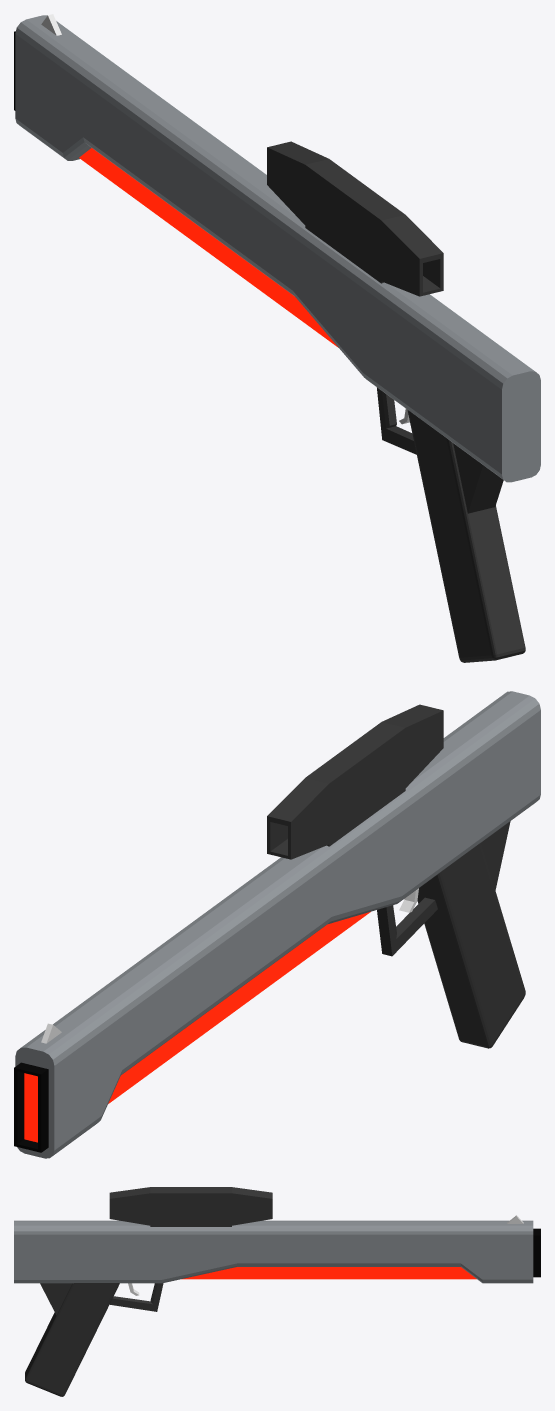
File: PlasmaGunv2Remeshed.fbx
3 renders of one model, top to bottom at view 1: azimuth 30°, elevation 25°; view 2: azimuth 150°, elevation 25°; view 3: azimuth 270°, elevation 25°, orthographic. The views are drawn at different scales.
Visible parts, largest first — view 1: RemodelledBarrel, Grip, Sight, Ammo, TriggerGuard; view 2: RemodelledBarrel, Grip, Sight, Ammo, Muzzle, TriggerGuard, MuzzleInside; view 3: RemodelledBarrel, Sight, Grip, Ammo, TriggerGuard, Muzzle.
Part boxes in pixels (<box>): RemodelledBarrel: <box>15,15,540,482</box>; Grip: <box>407,409,525,662</box>; Sight: <box>267,141,443,296</box>; Ammo: <box>79,148,338,347</box>; TriggerGuard: <box>377,387,416,454</box>; RemodelledBarrel: <box>15,691,540,1158</box>; Grip: <box>417,821,525,1048</box>; Sight: <box>267,704,443,859</box>; Ammo: <box>108,911,370,1103</box>; Muzzle: <box>14,1062,48,1152</box>; TriggerGuard: <box>377,897,437,956</box>; MuzzleInside: <box>24,1073,37,1142</box>; RemodelledBarrel: <box>14,1220,533,1283</box>; Sight: <box>109,1187,272,1226</box>; Grip: <box>25,1283,119,1396</box>; Ammo: <box>181,1267,476,1279</box>; TriggerGuard: <box>109,1283,163,1311</box>; Muzzle: <box>533,1228,540,1277</box>.
Bounding box in the file's own units: 200 × 1859 × 4369.
